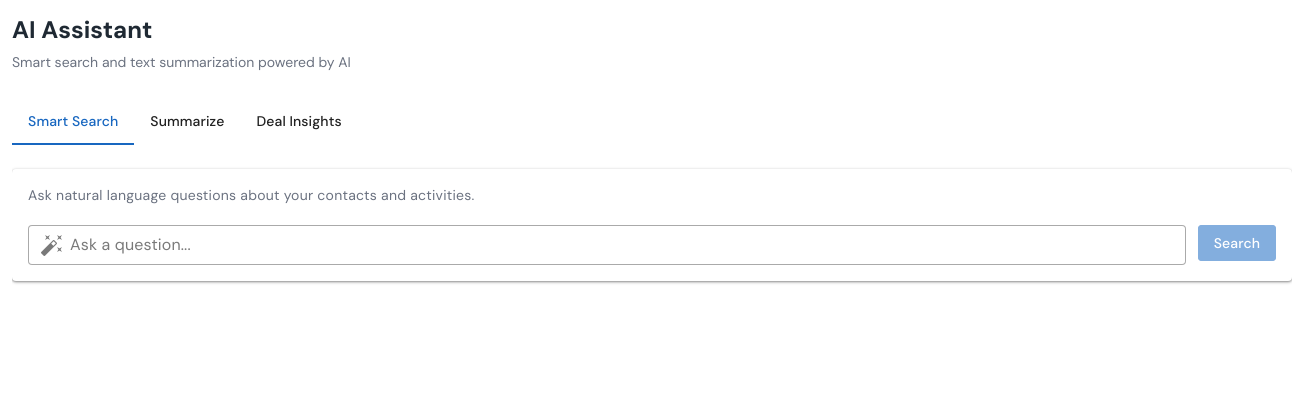
Test: AiPanelPage › shows streamed search results from fetch
The image size is (1292, 409).
Type "nobody" into the field labelled "Ask a question...". click: {"x": 625, "y": 245}
box: [64,225,1186,265]
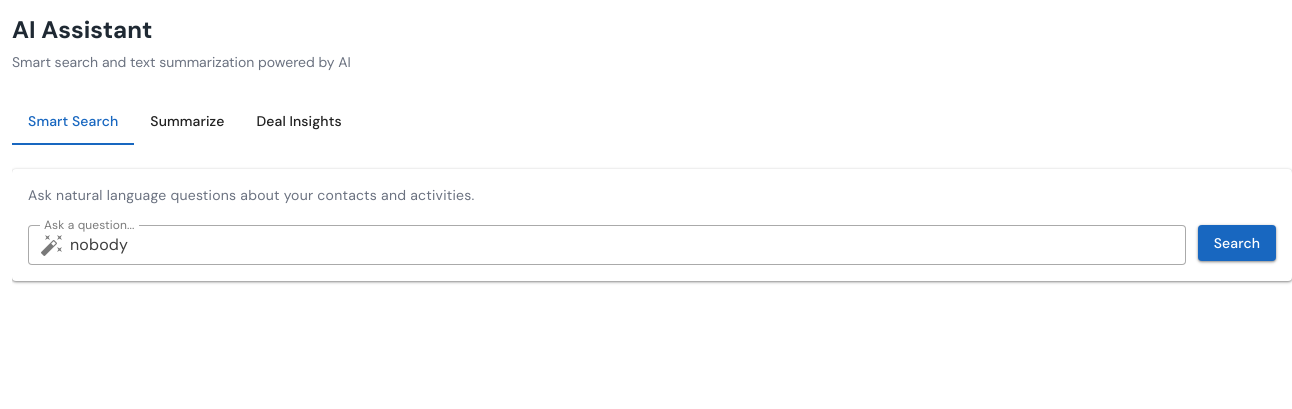
Click the button "Search". click: {"x": 1237, "y": 243}
box: [1198,225,1276,261]
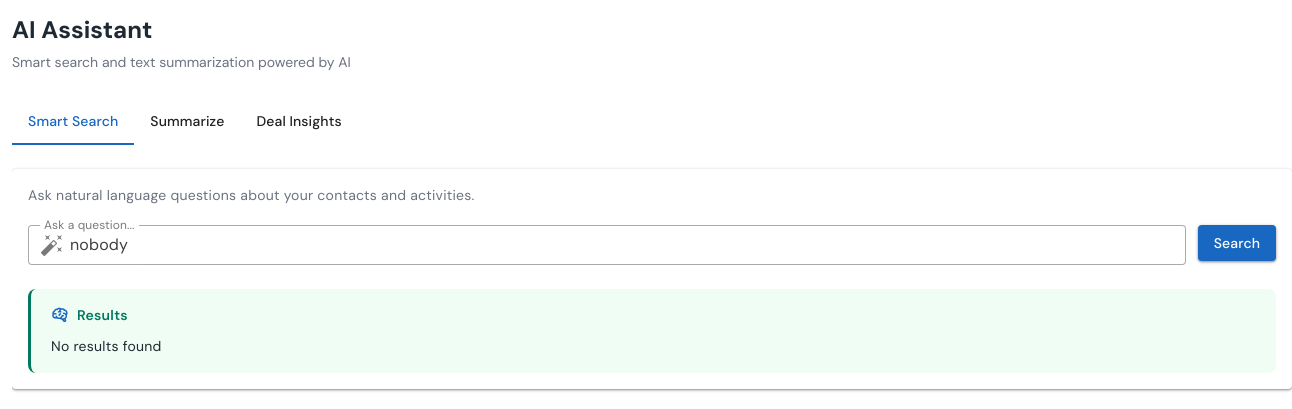
Result: the text "No results found" is shown at [51,337,162,355]
